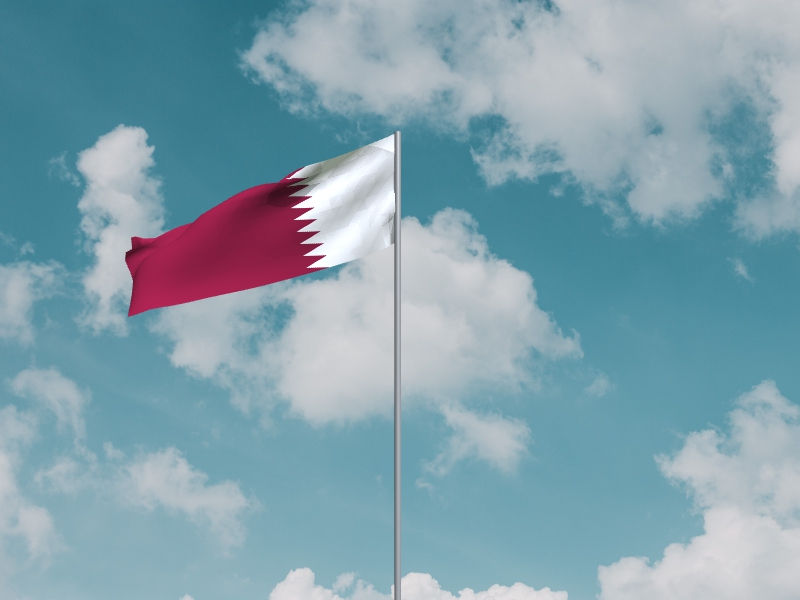qa: (124, 134, 395, 318)
